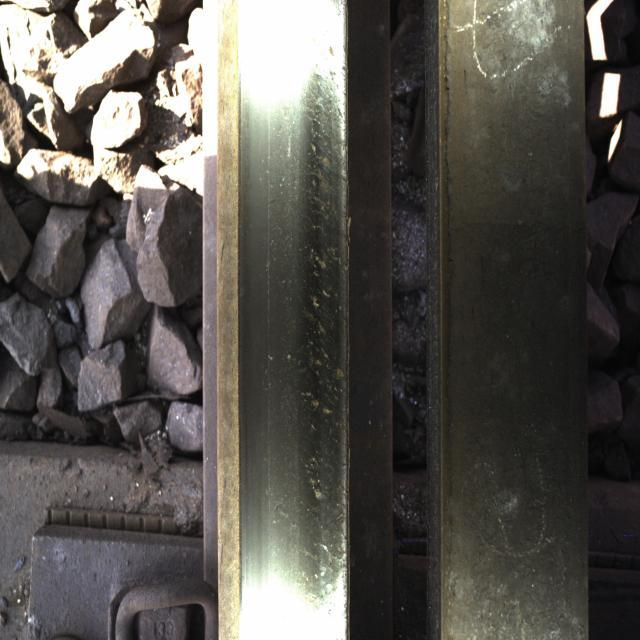scar: (286, 45, 350, 597)
